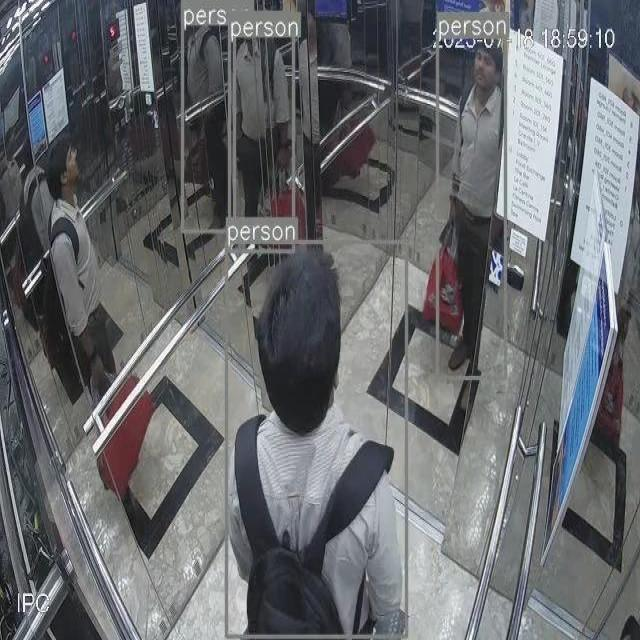person: (227, 247, 409, 636), (441, 23, 510, 380), (39, 139, 104, 412), (231, 32, 291, 249), (185, 7, 235, 226)
